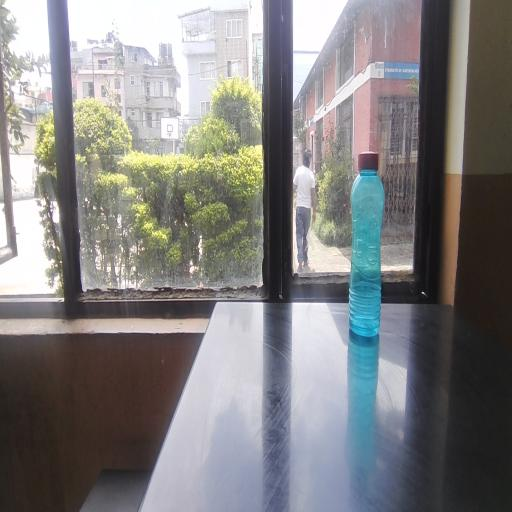Bottle: (350, 157, 389, 384)
